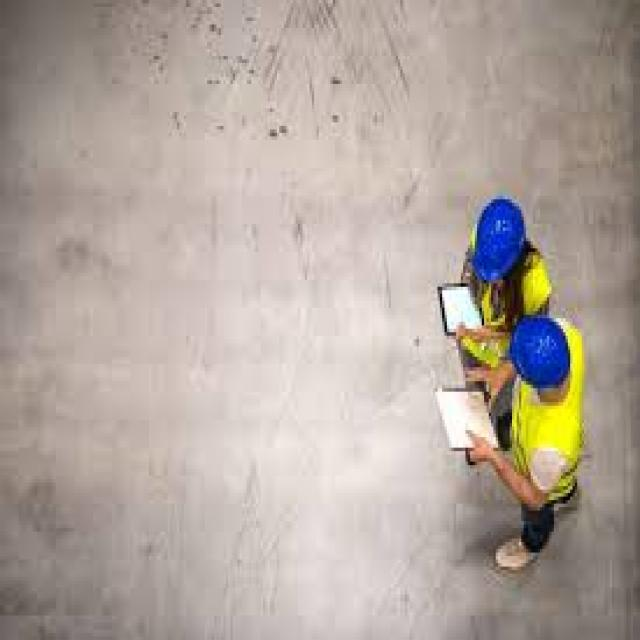Reflective-Jacket: (498, 315, 600, 514), (448, 215, 560, 342)
Safety-Helmet: (458, 186, 536, 290), (503, 311, 570, 395)
